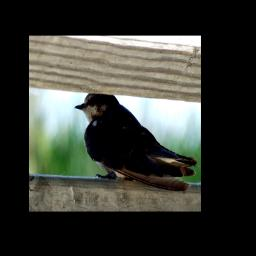Swallow: (74, 92, 198, 192)
